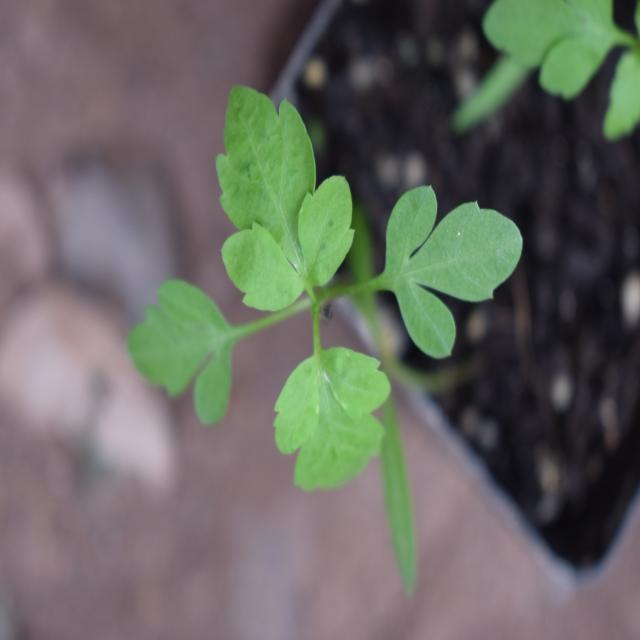Bidens pilosa: (125, 83, 522, 525)
